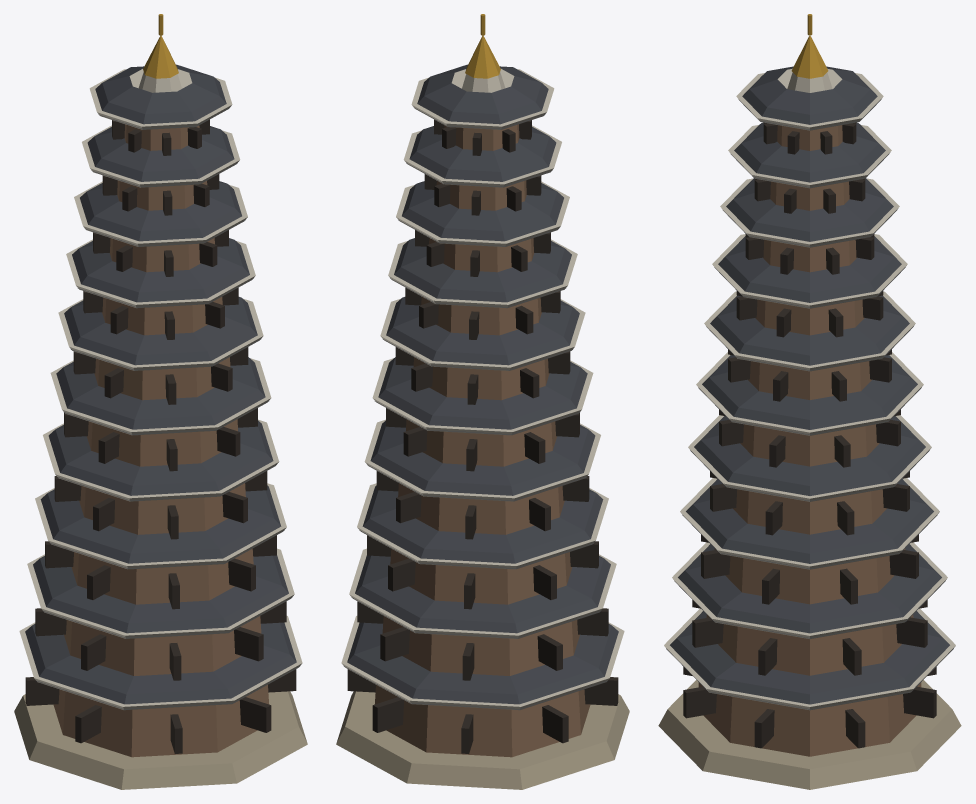
The model's file is kew_pagoda.glb.
The picture shows the model from 3 angles, left to right: view 1: azimuth 30°, elevation 25°; view 2: azimuth 150°, elevation 25°; view 3: azimuth 270°, elevation 25°; orthographic projection.
Visible parts, largest first — view 1: kew_pagoda; view 2: kew_pagoda; view 3: kew_pagoda.
Part boxes in pixels (x1=…): kew_pagoda: x1=14, y1=14, x2=307, y2=789; kew_pagoda: x1=336, y1=14, x2=629, y2=789; kew_pagoda: x1=658, y1=14, x2=961, y2=789.
Bounding box in the file's own units: 19.6 × 50.7 × 19.6.
